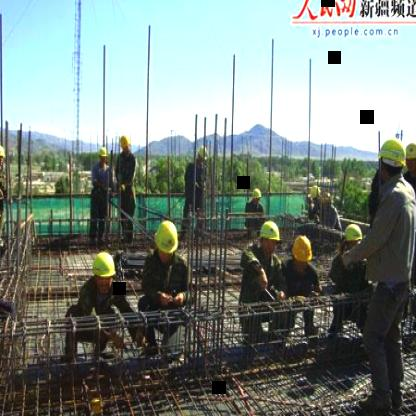helmet: (378, 136, 406, 182), (152, 216, 180, 260), (90, 248, 118, 292), (257, 221, 283, 262), (290, 232, 314, 274), (342, 222, 367, 256), (401, 138, 416, 176), (118, 131, 134, 157), (93, 146, 109, 167), (307, 180, 321, 204), (250, 184, 264, 206), (196, 144, 210, 166), (0, 142, 6, 170)
